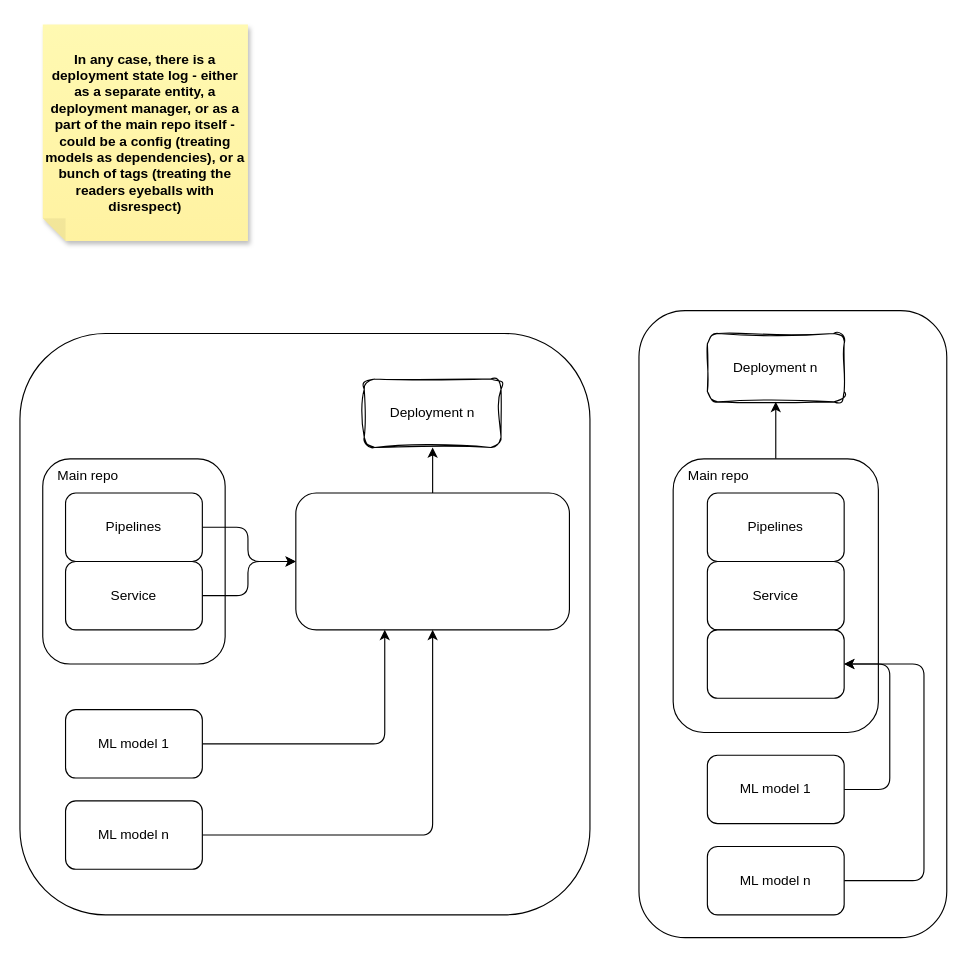
Some shapes in this 967 by 958 pixel diagram are drawn without their labels. Each missing label, with the centre of its shape:
Dependency config aka a file: the point at 775,663
Deployment manager: the point at 432,561
